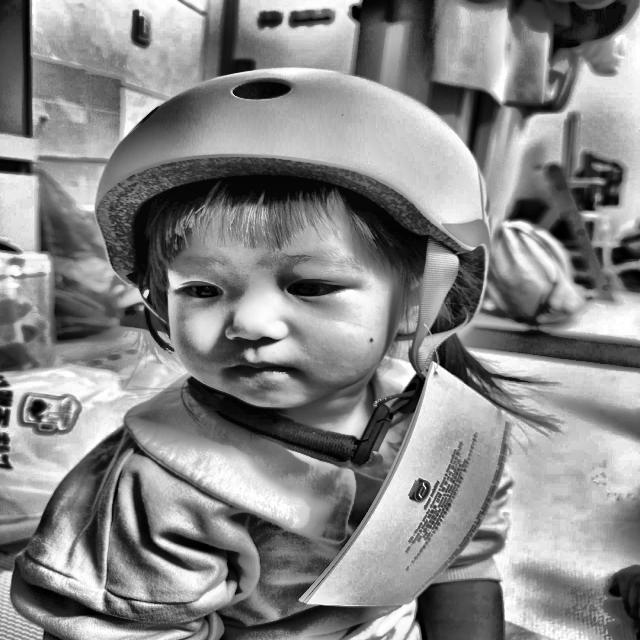Helmet: (97, 65, 495, 440)
